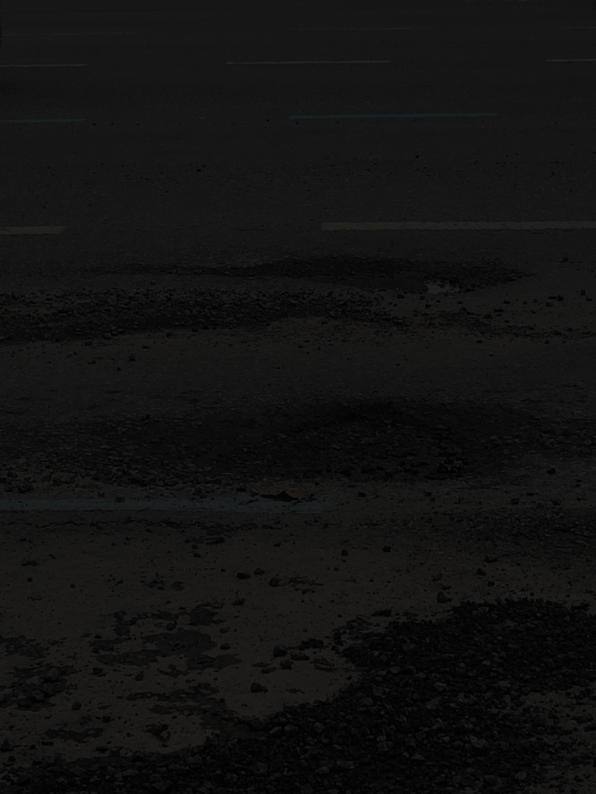pothole: (64, 363, 532, 516)
